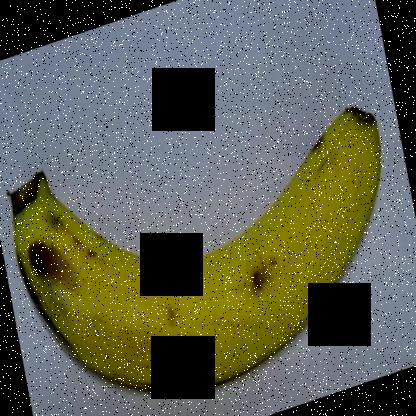freshripe: (1, 93, 394, 408)
